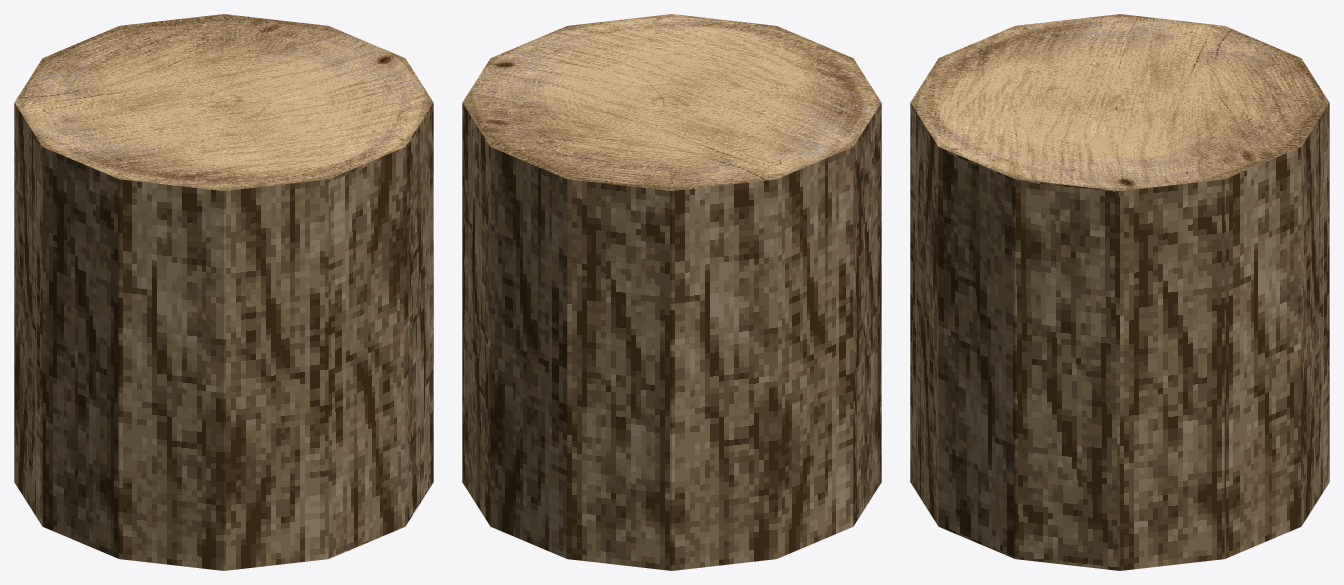
File: NewerLog.glb
3 renders of one model, left to right at view 1: azimuth 30°, elevation 25°; view 2: azimuth 150°, elevation 25°; view 3: azimuth 270°, elevation 25°, orthographic.
Parts seen in each view (by area): view 1: Cylinder; view 2: Cylinder; view 3: Cylinder.
Part boxes in pixels (box(x1,y1,x2,y2)): Cylinder: box(14, 14, 433, 570); Cylinder: box(462, 14, 881, 570); Cylinder: box(910, 14, 1329, 570).
Bounding box in the file's own units: 2 × 2 × 2.
2 materials, 2 textured.
